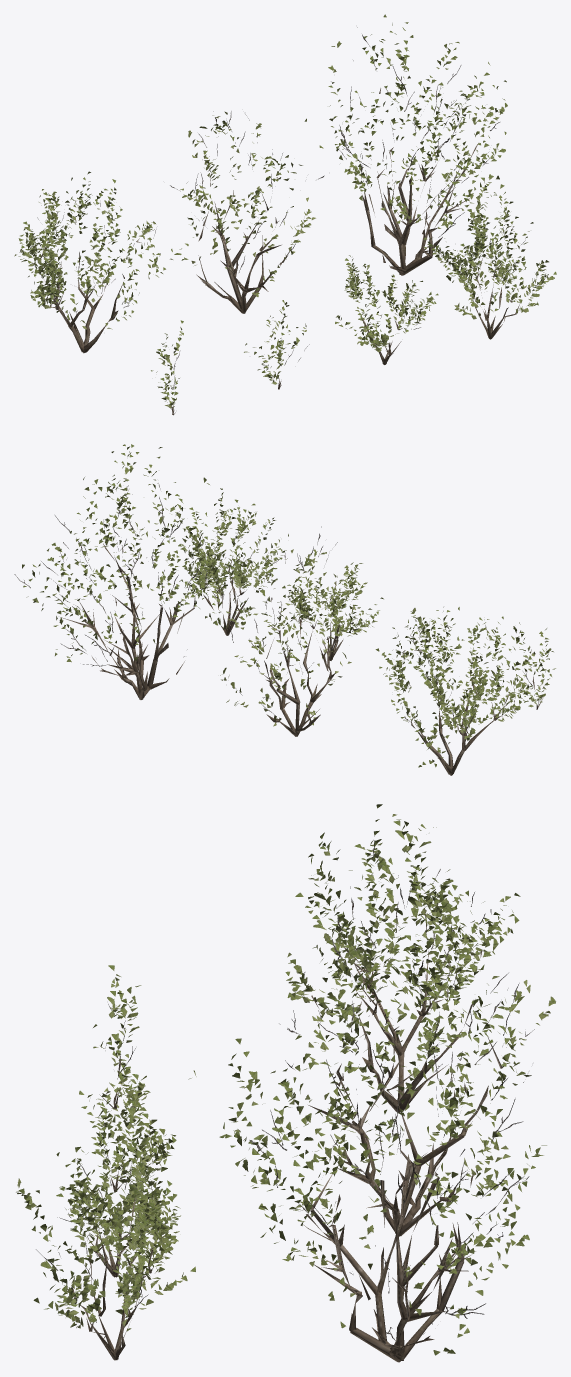
File: searsia_lucida.glb
3 views of the same model, one above another, from view 1: azimuth 30°, elevation 25°; view 2: azimuth 150°, elevation 25°; view 3: azimuth 270°, elevation 25° (orthographic). The views are drawn at different scales.
Parts seen in each view (by area): view 1: searsia_lucida_a_LOD0; view 2: searsia_lucida_a_LOD0; view 3: searsia_lucida_a_LOD0.
Boxes of the visible parts, x1,y1,x2,y2 form: searsia_lucida_a_LOD0: [14, 14, 556, 415]; searsia_lucida_a_LOD0: [14, 444, 555, 775]; searsia_lucida_a_LOD0: [16, 804, 555, 1362].
Size of the model in its own units: 4.7 by 2.28 by 2.77.
2 materials, 2 textured.
